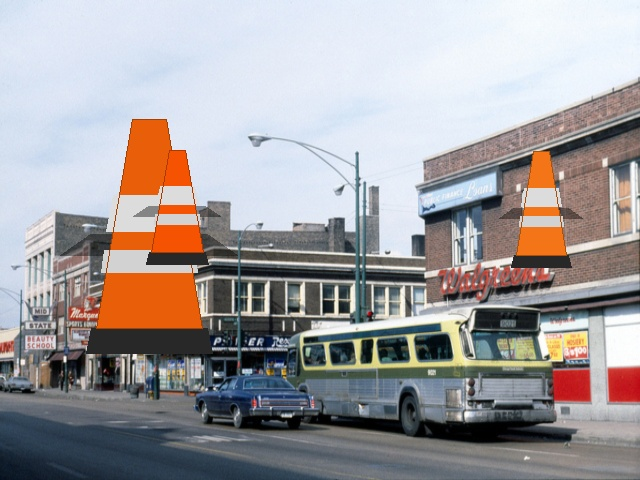traffic-cone: (86, 119, 212, 353), (146, 150, 208, 264), (511, 151, 571, 267)
